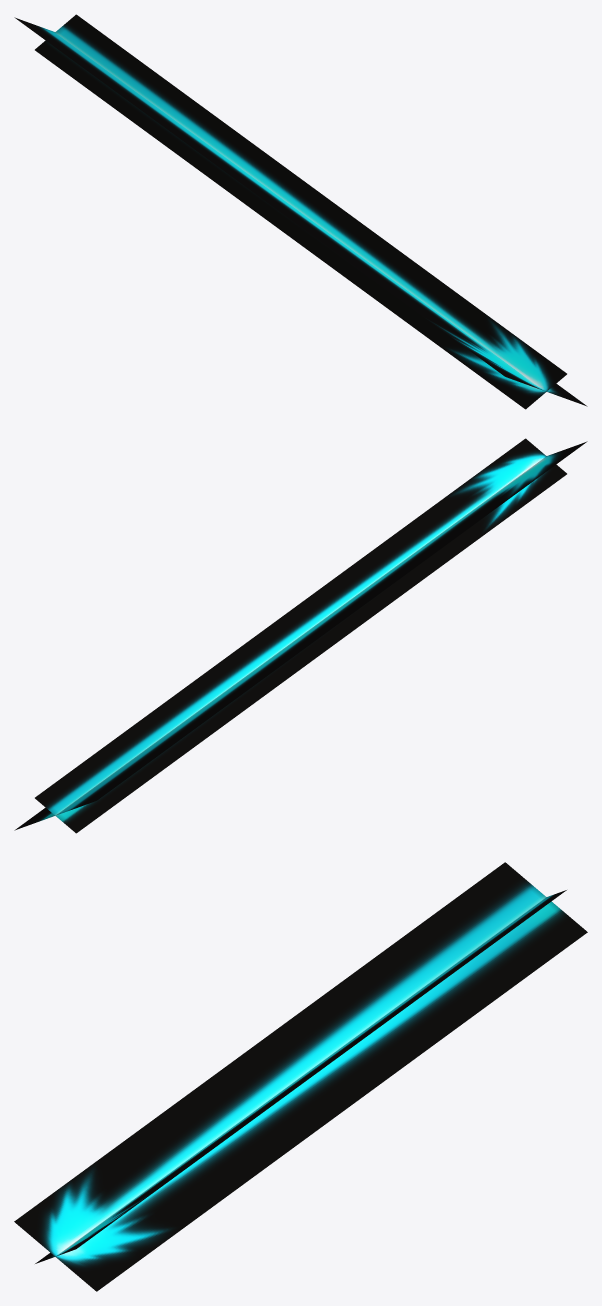
Rendered from M20_lockon_laser.fbx.
3 renders of one model, top to bottom at view 1: azimuth 30°, elevation 25°; view 2: azimuth 150°, elevation 25°; view 3: azimuth 330°, elevation 25°, orthographic.
Parts seen in each view (by area): view 1: M19_lockon_laser; view 2: M19_lockon_laser; view 3: M19_lockon_laser.
Boxes of the visible parts, left/top/right/bottom form: M19_lockon_laser: left=14, top=14, right=587, bottom=409; M19_lockon_laser: left=14, top=438, right=587, bottom=833; M19_lockon_laser: left=14, top=862, right=587, bottom=1291.
Bounding box in the file's own units: 3.89 × 2.24 × 40.
